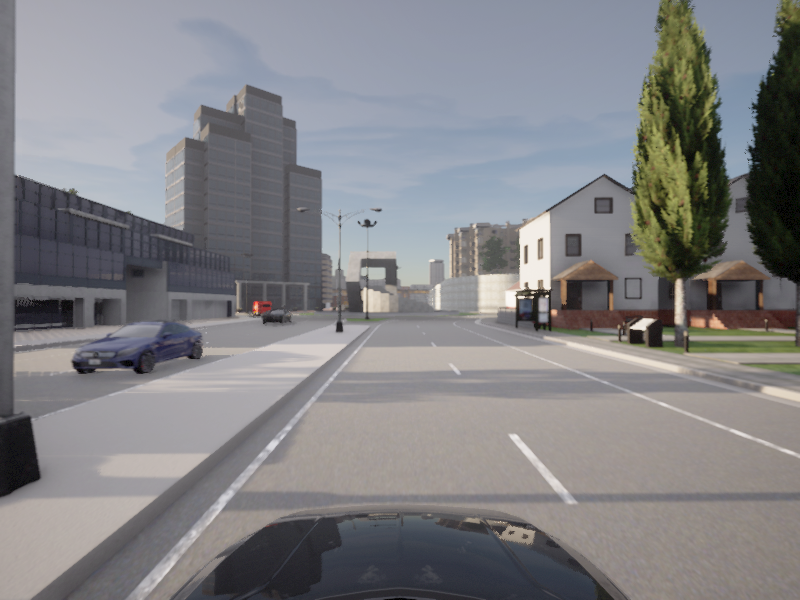vehicle: (60, 318, 211, 379), (258, 307, 293, 325)
